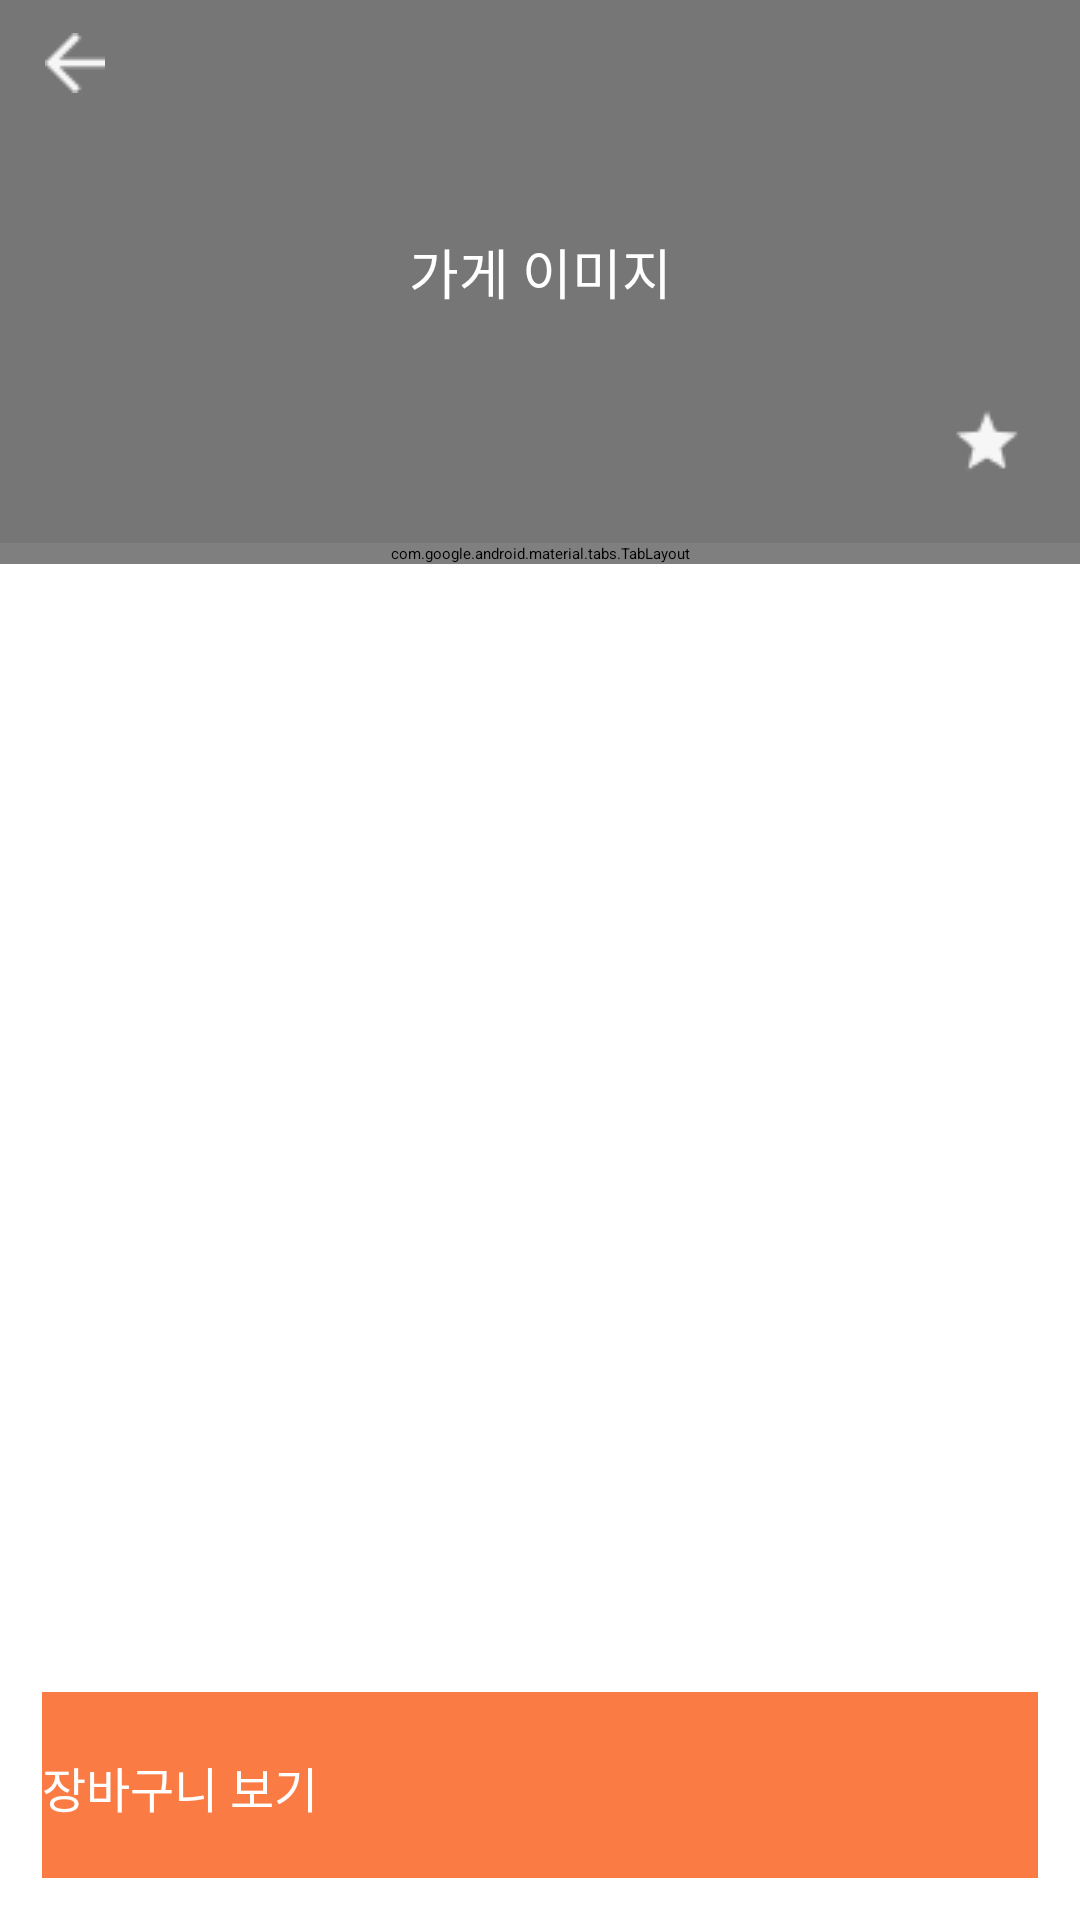

Named icons in this screenshot (1080 x 1920) and their centers, (x=x, y=y):
back: (x=75, y=63)
star no select: (x=987, y=440)
